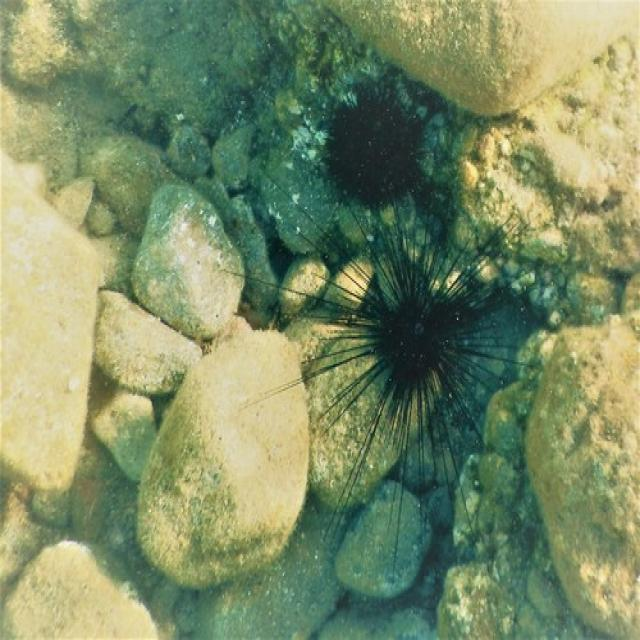Urchin: (210, 173, 541, 570), (307, 74, 443, 212)
